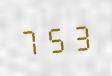five: (44, 21, 68, 54)
seven: (18, 23, 42, 57)
three: (69, 18, 93, 52)
